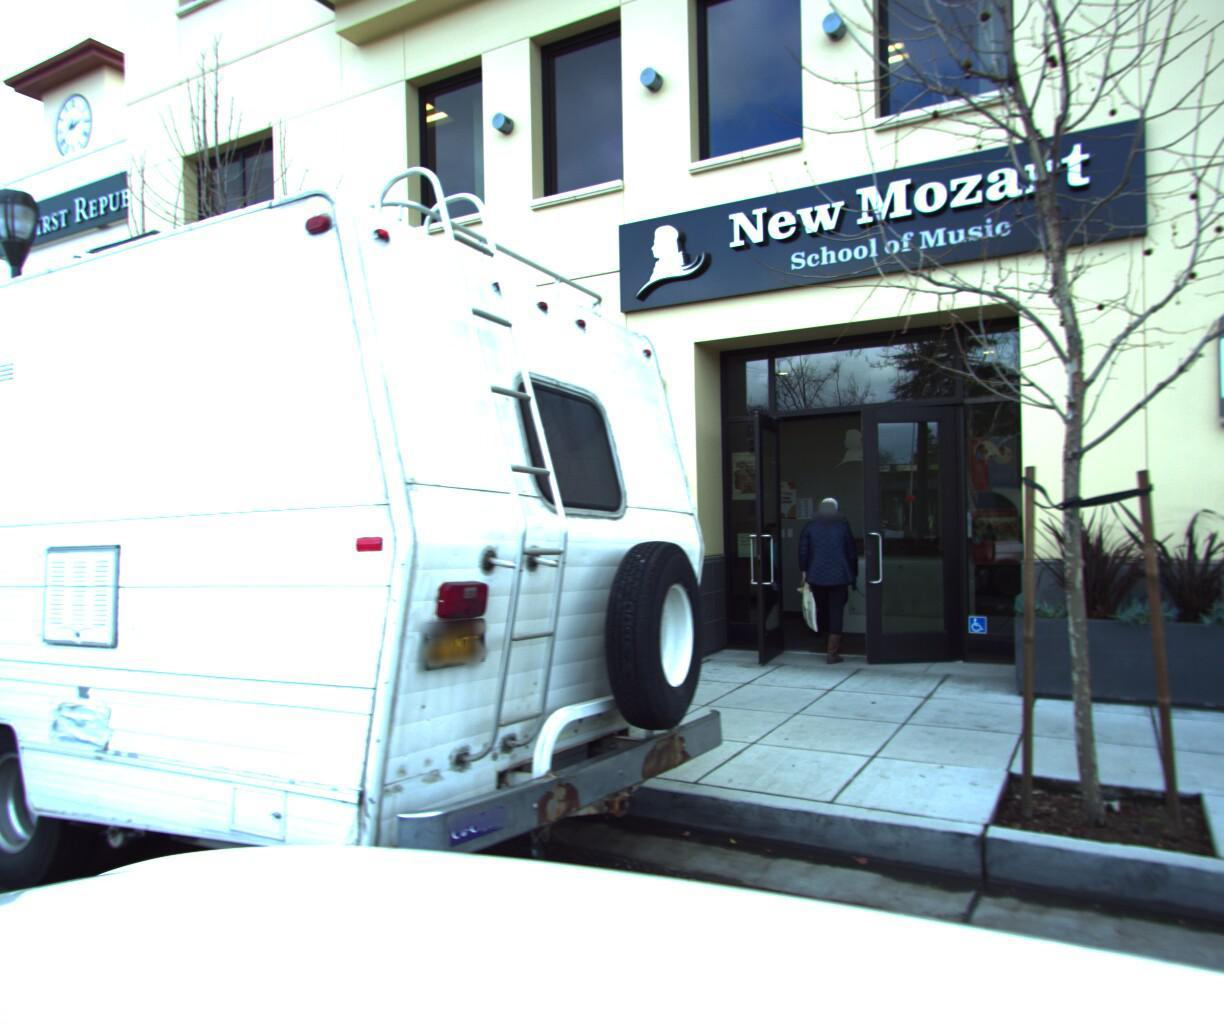car: (0, 9, 764, 1024)
